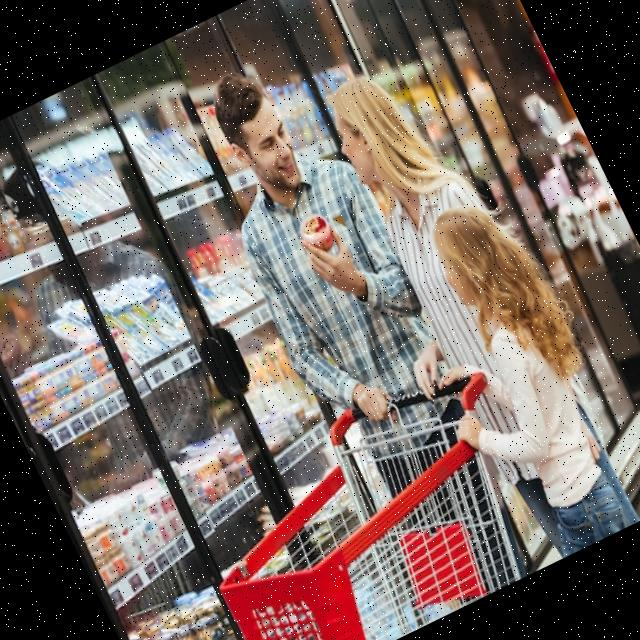Person: (284, 49, 639, 582), (164, 38, 463, 444), (364, 178, 640, 576)
